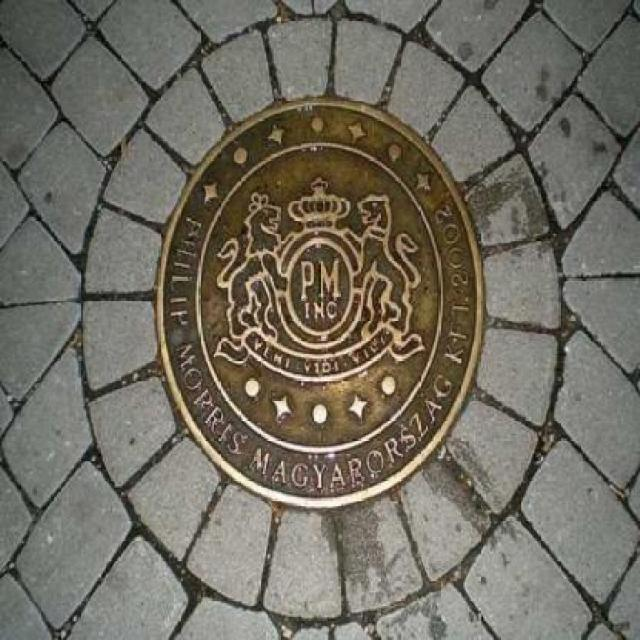Manhole: (128, 76, 506, 524)
